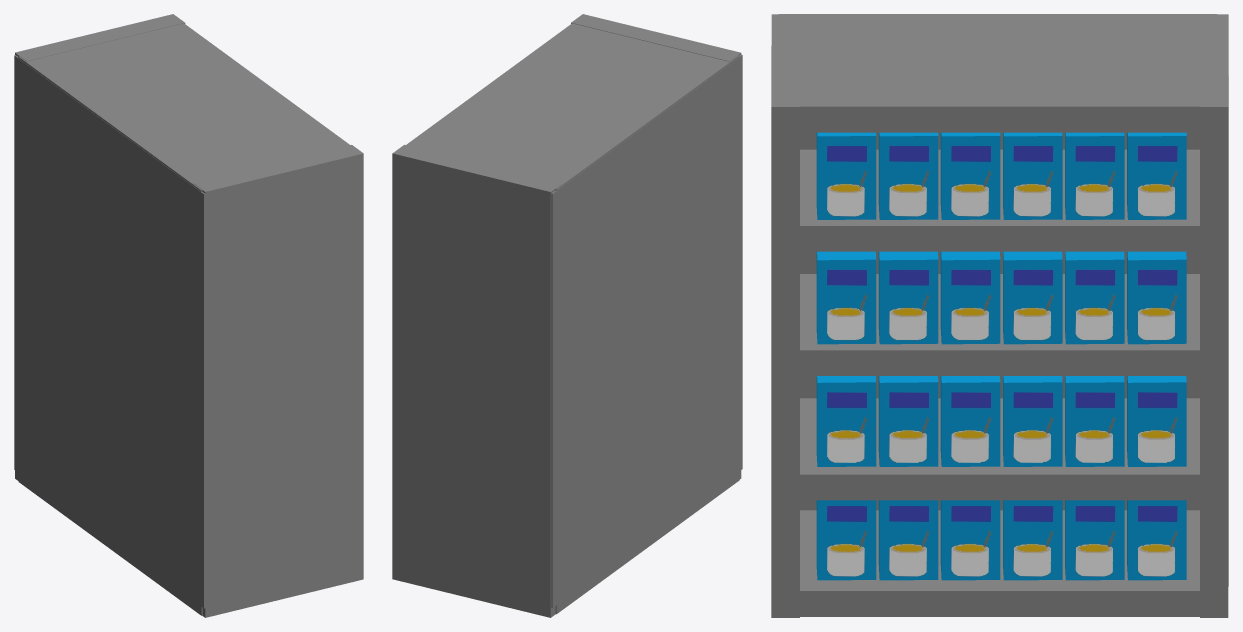
Rendered from blue_cereal_shelf.gltf.
3 views of the same model, side by side, from view 1: azimuth 30°, elevation 25°; view 2: azimuth 150°, elevation 25°; view 3: azimuth 270°, elevation 25° (orthographic). The views are drawn at different scales.
Visible parts, largest first — view 1: Cube.002; view 2: Cube.002; view 3: Cube.002, Cube.009, Cube.019, Cube.010, Cube.008.
Boxes of the visible parts, <box> form: Cube.002: <box>14,14,363,617</box>; Cube.002: <box>392,14,742,617</box>; Cube.002: <box>771,14,1228,617</box>; Cube.009: <box>816,251,1186,344</box>; Cube.019: <box>816,376,1186,466</box>; Cube.010: <box>816,132,1186,219</box>; Cube.008: <box>816,500,1186,580</box>.
Bounding box in the file's own units: 4.03 × 10.28 × 8.34.
3 materials, 1 textured.
